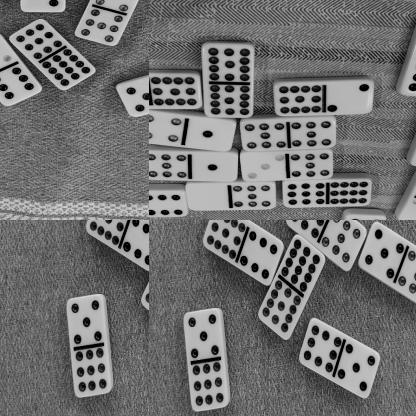pip-1: (183, 118, 235, 152), (190, 152, 238, 182)
pip-11: (257, 280, 300, 340), (201, 44, 255, 84), (149, 74, 201, 109), (202, 220, 244, 261), (274, 83, 324, 116), (204, 84, 252, 117), (85, 220, 127, 247), (139, 266, 149, 326)
pip-12: (281, 235, 325, 292), (42, 49, 95, 92), (327, 180, 371, 207)
pip-2: (324, 80, 372, 116), (19, 0, 64, 11)
pip-3: (239, 153, 286, 182), (396, 199, 416, 220), (0, 34, 10, 72)
pip-4: (149, 110, 182, 145), (94, 0, 144, 12)
pip-5: (358, 222, 404, 282), (338, 341, 380, 399), (66, 295, 108, 346), (183, 309, 225, 360), (115, 80, 149, 117)
pip-6: (239, 229, 282, 288), (0, 65, 40, 106), (122, 220, 149, 274), (149, 192, 186, 218), (397, 63, 416, 98)
pip-7: (322, 220, 367, 272), (73, 10, 123, 48), (289, 117, 336, 150), (240, 121, 286, 152), (286, 150, 332, 179), (231, 183, 276, 211), (396, 249, 416, 306), (149, 152, 188, 181)
pip-8: (298, 318, 340, 376), (285, 220, 329, 239)
pip-9: (9, 20, 62, 60), (72, 346, 111, 399), (189, 360, 228, 413), (282, 182, 327, 209)
